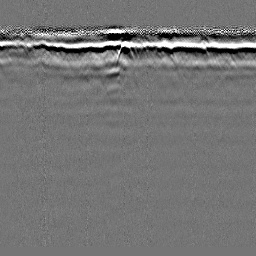cavity: (115, 40, 135, 65)
